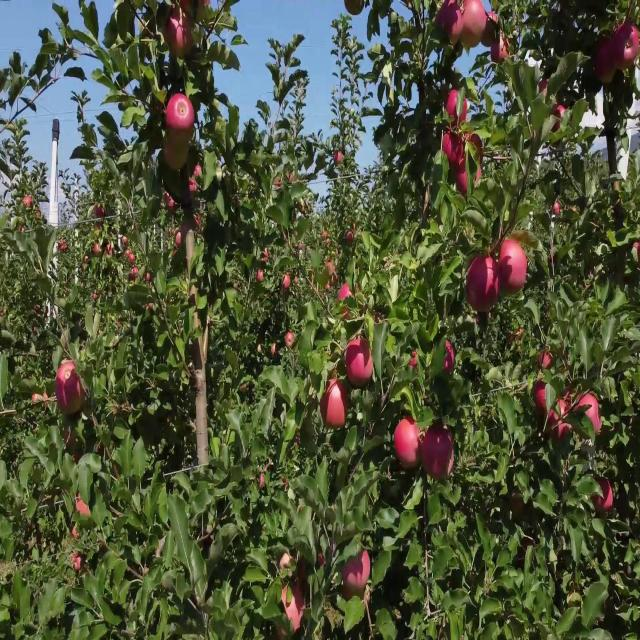apple: (468, 255, 501, 313), (424, 426, 455, 482), (56, 362, 83, 416), (500, 241, 528, 293), (612, 21, 640, 71), (344, 547, 372, 596), (348, 341, 376, 389), (456, 149, 484, 197), (56, 376, 87, 418), (396, 419, 422, 468), (320, 383, 348, 428), (168, 92, 196, 137), (592, 35, 616, 85), (284, 583, 307, 633), (436, 0, 463, 41), (464, 0, 485, 50), (164, 135, 191, 172), (548, 398, 572, 439), (576, 398, 602, 434), (592, 476, 615, 514), (164, 14, 183, 57), (180, 0, 194, 50), (464, 14, 483, 50), (448, 92, 468, 126), (548, 405, 568, 439), (480, 14, 499, 48), (444, 135, 464, 167), (464, 135, 484, 167), (492, 35, 511, 66), (280, 554, 304, 578), (180, 14, 193, 55), (280, 554, 304, 576), (188, 163, 203, 197), (456, 156, 468, 197), (552, 106, 570, 132), (516, 540, 531, 571), (536, 383, 548, 418), (444, 341, 456, 375), (340, 284, 354, 313), (64, 426, 78, 452), (344, 0, 364, 18), (512, 490, 525, 517), (324, 263, 337, 290), (540, 348, 554, 372), (76, 497, 91, 519), (508, 327, 524, 347), (196, 0, 211, 20), (324, 263, 336, 283), (72, 554, 83, 572), (412, 348, 420, 370), (540, 78, 549, 96), (348, 227, 356, 247), (256, 476, 266, 491), (176, 234, 184, 249), (288, 334, 296, 348), (96, 206, 104, 220), (72, 526, 80, 540), (284, 476, 290, 491), (272, 341, 278, 356), (636, 241, 640, 261), (72, 455, 80, 464), (320, 554, 324, 569)
